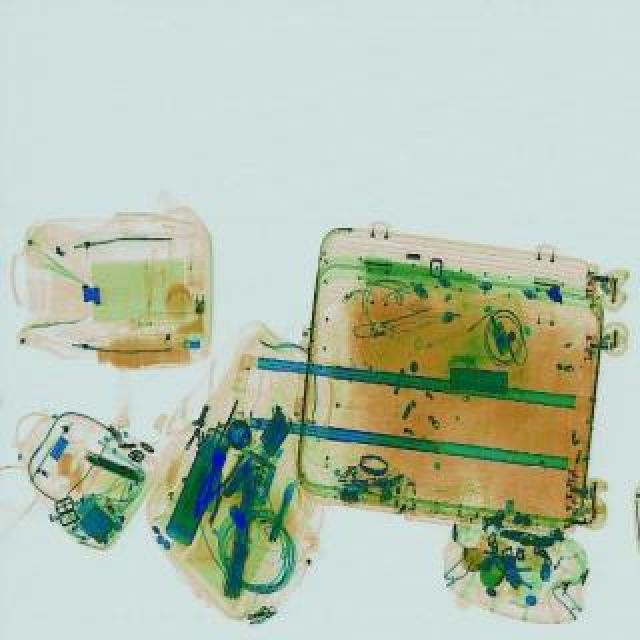wrench: (182, 442, 244, 518), (190, 448, 230, 518)
